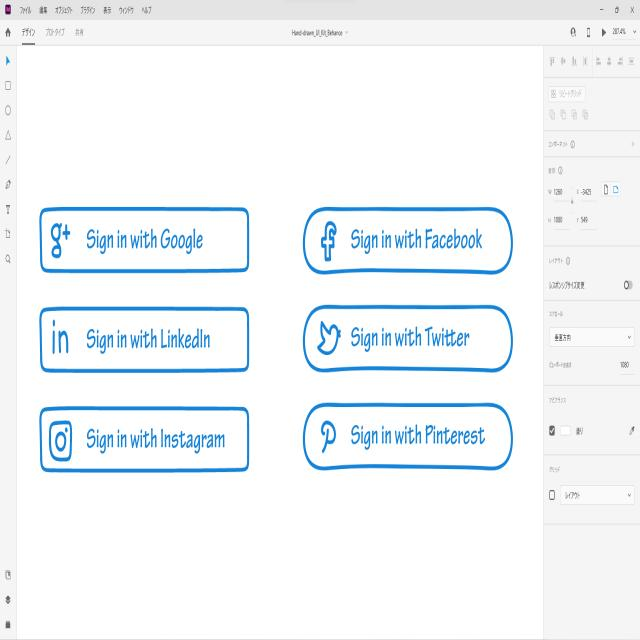checkbox: (548, 422, 556, 437)
toggle: (624, 279, 633, 291)
